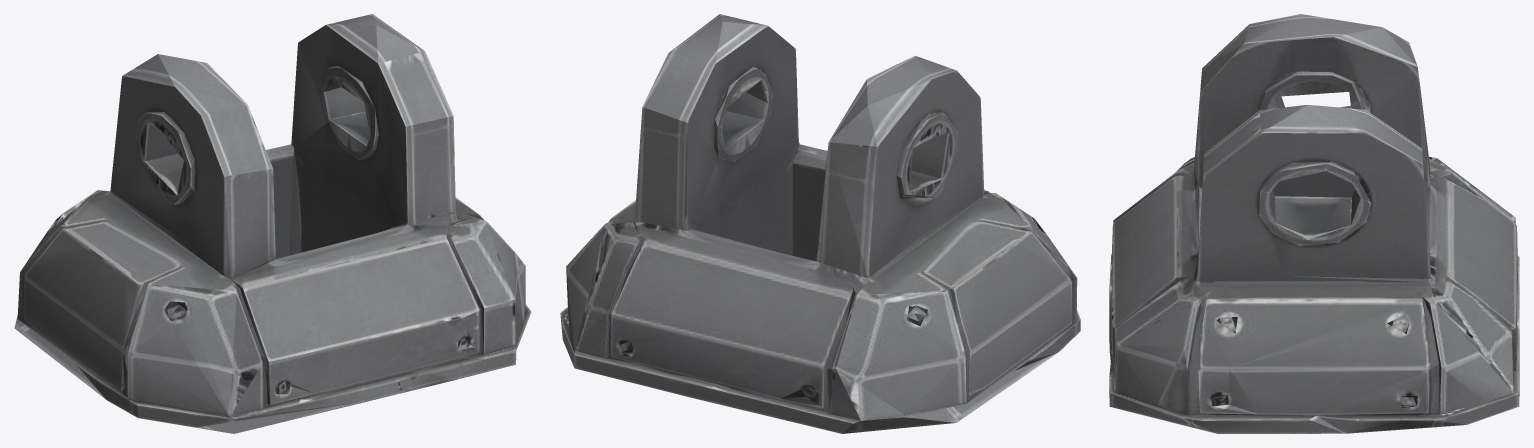
Rendered from shared_flak_tower_large_option__radar_azimuth_yoke_lod1.glb.
3 views of the same model, side by side, from view 1: azimuth 30°, elevation 25°; view 2: azimuth 150°, elevation 25°; view 3: azimuth 270°, elevation 25° (orthographic).
Visible parts, largest first — view 1: mesh_node; view 2: mesh_node; view 3: mesh_node.
Part boxes in pixels (box(x1,y1,x2,y2)): mesh_node: box(14, 14, 531, 433); mesh_node: box(560, 14, 1080, 433); mesh_node: box(1109, 14, 1519, 433).
Size of the model in its own units: 0.9752 by 0.6537 by 0.8585.
1 material, 1 textured.
